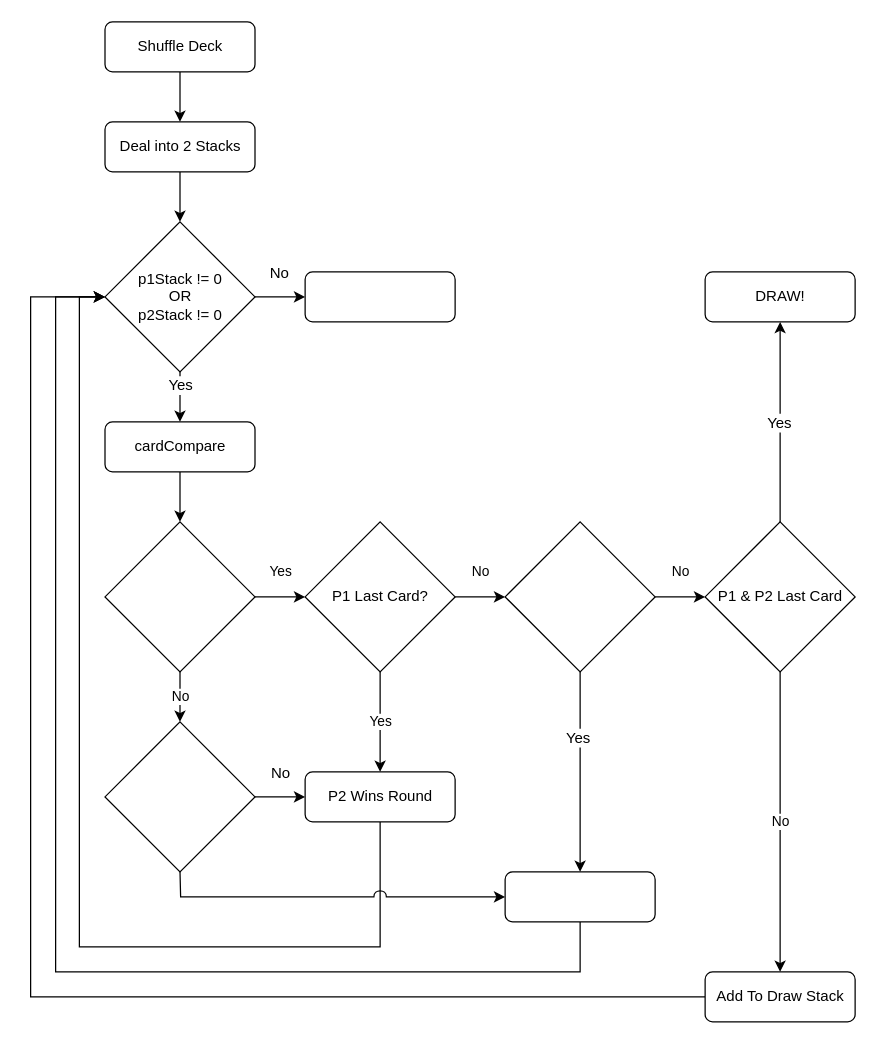
This 878x1044 diagram has some shape labels left out. The centre of each missing label's shape, as x and y in pixels:
"P1 Value = P2 Value (DRAW)" goes at (179,596).
"P1 Value > P2 Value" goes at (179,796).
"P1 Wins Round" goes at (579,896).
"P2 Last Card?" goes at (579,596).
"Px Wins" goes at (379,296).
